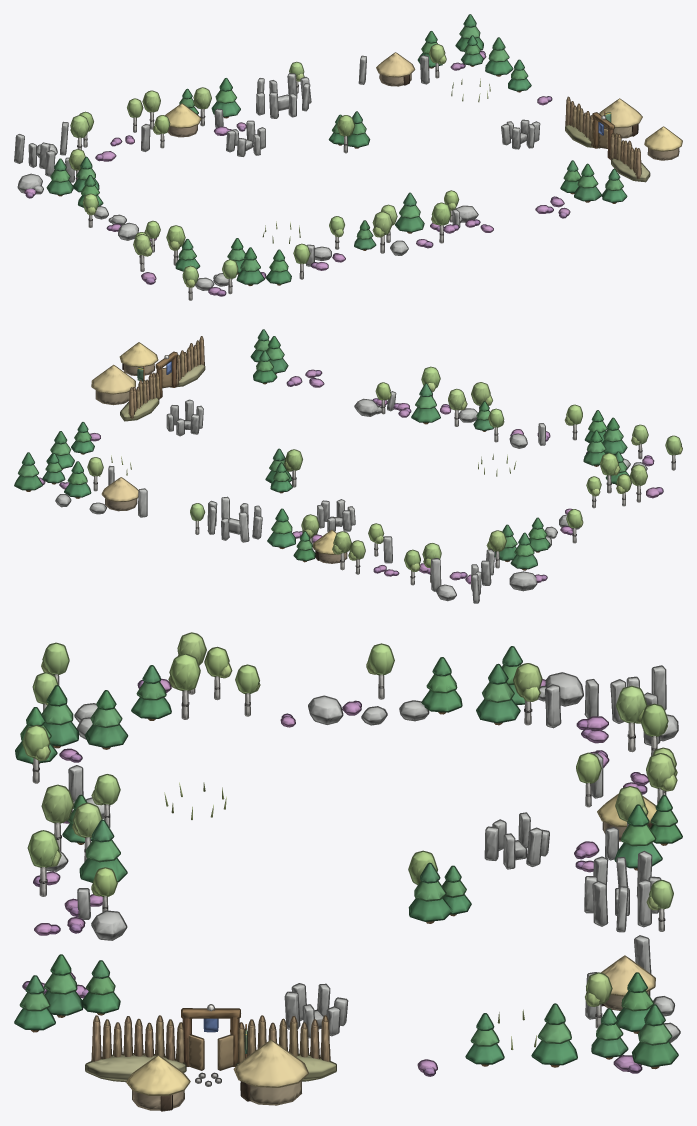
The model's file is highland_ford.glb.
The picture shows the model from 3 angles, top to bottom: view 1: azimuth 30°, elevation 25°; view 2: azimuth 150°, elevation 25°; view 3: azimuth 270°, elevation 25°; orthographic projection. The views are drawn at different scales.
Visible parts, largest first — view 1: Baked_matte, Baked_matte_Outline; view 2: Baked_matte, Baked_matte_Outline; view 3: Baked_matte, Baked_matte_Outline.
Part boxes in pixels (x1=…): Baked_matte: x1=14, y1=15, x2=681, y2=299; Baked_matte_Outline: x1=14, y1=14, x2=682, y2=300; Baked_matte: x1=14, y1=330, x2=682, y2=602; Baked_matte_Outline: x1=14, y1=329, x2=682, y2=603; Baked_matte: x1=15, y1=633, x2=681, y2=1110; Baked_matte_Outline: x1=14, y1=632, x2=682, y2=1111.
Bounding box in the file's own units: 40.53 × 3.43 × 26.67.
